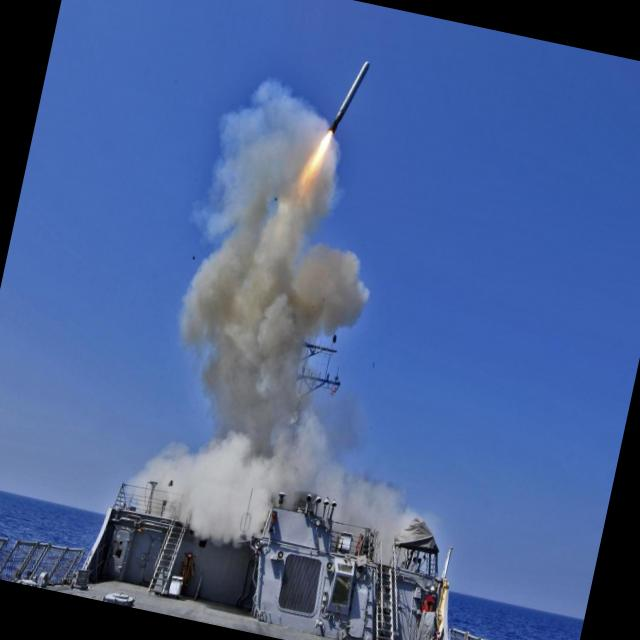rocket: (271, 41, 373, 258)
